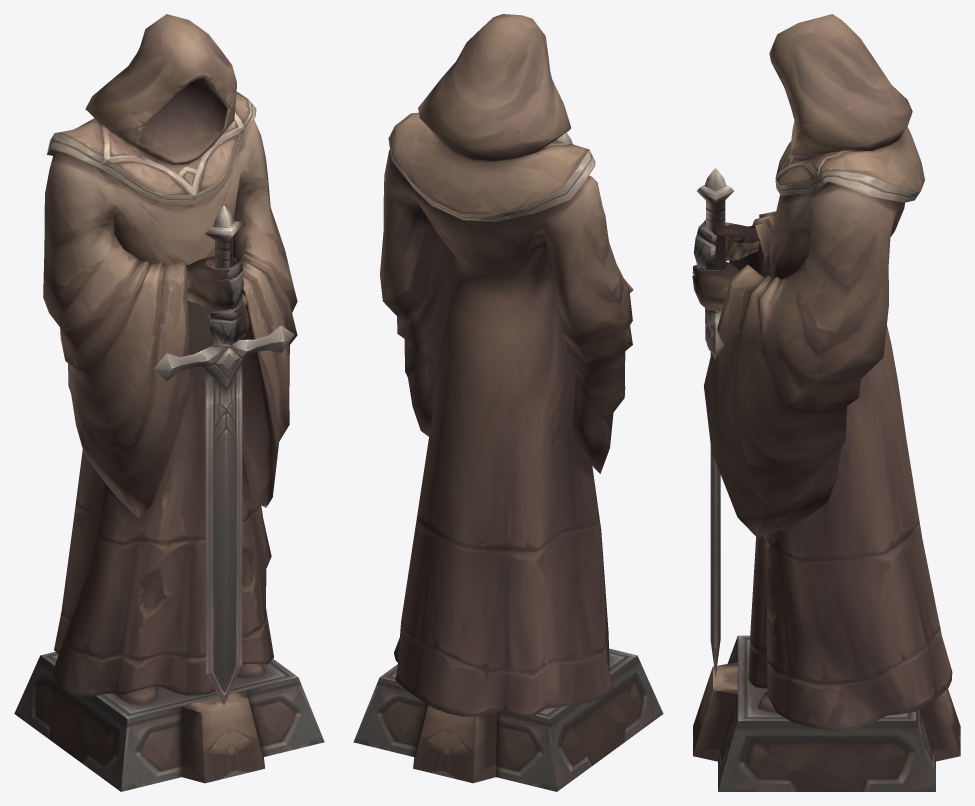
Rendered from sc_mlkdiaoxiang_001.FBX.
The picture shows the model from 3 angles, left to right: view 1: azimuth 30°, elevation 25°; view 2: azimuth 150°, elevation 25°; view 3: azimuth 270°, elevation 25°; orthographic projection. The views are drawn at different scales.
Visible parts, largest first — view 1: sc_mlkdiaoxiang_001; view 2: sc_mlkdiaoxiang_001; view 3: sc_mlkdiaoxiang_001.
Boxes of the visible parts, <box> form: sc_mlkdiaoxiang_001: <box>14,14,324,791</box>; sc_mlkdiaoxiang_001: <box>353,14,663,791</box>; sc_mlkdiaoxiang_001: <box>692,14,960,791</box>.
Size of the model in its own units: 1.34 by 3.93 by 1.31.
